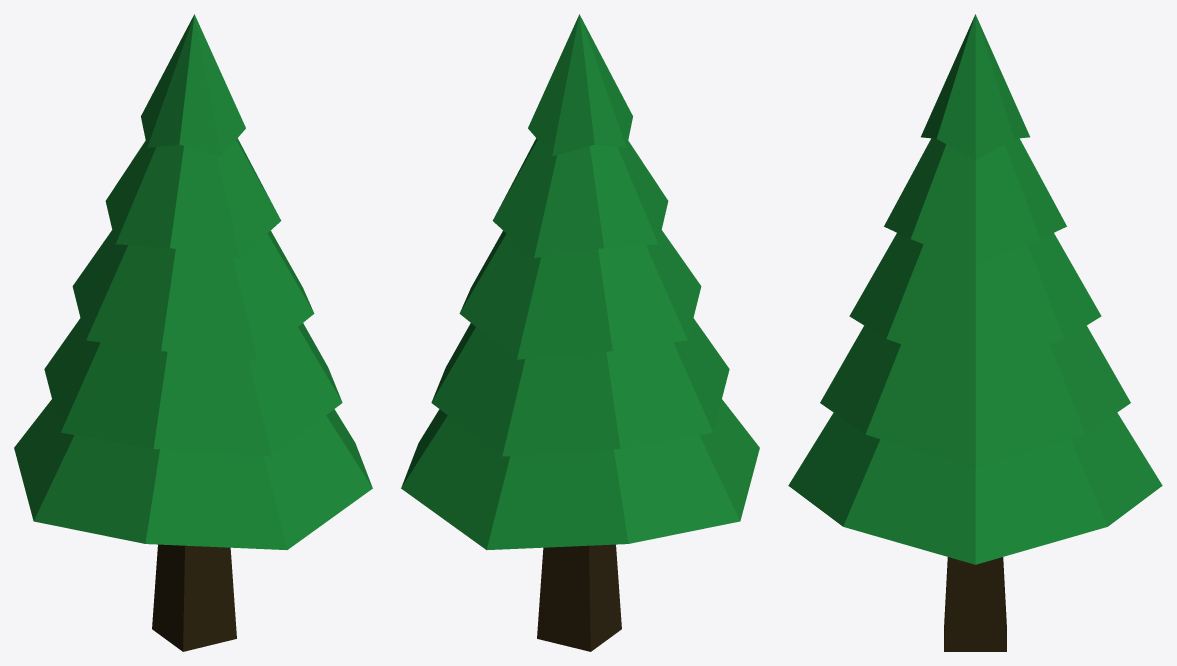
Rendered from Tree 2.fbx.
3 renders of one model, left to right at view 1: azimuth 30°, elevation 25°; view 2: azimuth 150°, elevation 25°; view 3: azimuth 270°, elevation 25°, orthographic.
Parts seen in each view (by area): view 1: Tree 2; view 2: Tree 2; view 3: Tree 2.
Part boxes in pixels (x1=…): Tree 2: x1=14, y1=14, x2=372, y2=651; Tree 2: x1=401, y1=14, x2=759, y2=651; Tree 2: x1=788, y1=14, x2=1162, y2=651.
Size of the model in its own units: 446 by 821 by 446.
